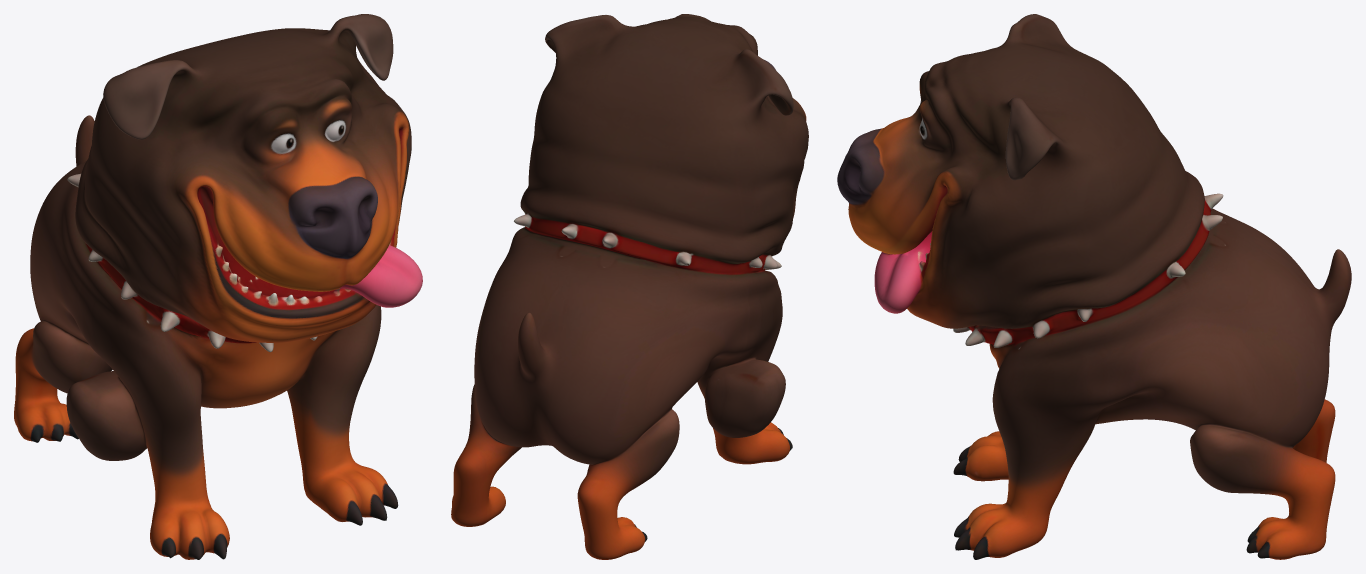
Rendered from g67_pz_dog_tripo.glb.
3 renders of one model, left to right at view 1: azimuth 30°, elevation 25°; view 2: azimuth 150°, elevation 25°; view 3: azimuth 270°, elevation 25°, orthographic. The views are drawn at different scales.
Visible parts, largest first — view 1: tripo_node_2370cfce; view 2: tripo_node_2370cfce; view 3: tripo_node_2370cfce.
Part boxes in pixels (x1=…): tripo_node_2370cfce: x1=14, y1=14, x2=422, y2=559; tripo_node_2370cfce: x1=451, y1=14, x2=808, y2=559; tripo_node_2370cfce: x1=837, y1=14, x2=1351, y2=559.
Size of the model in its own units: 60.53 by 94.34 by 98.
Materials: 1 (1 with a texture image).
